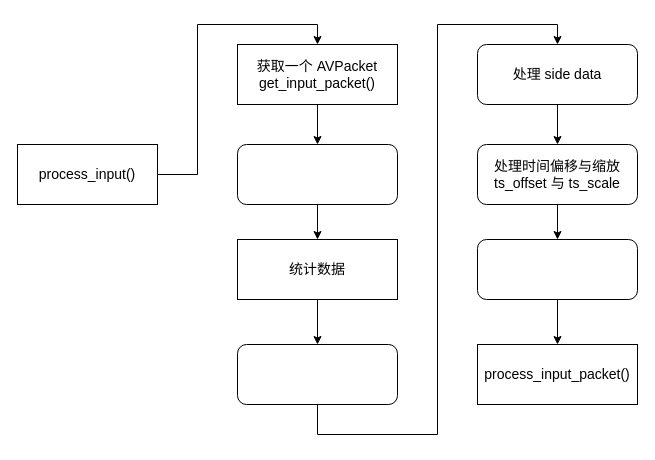
This 655x460 diagram has some shape labels left out. The centre of each missing label's shape, as x and y in pixels:
处理文件读取结束: the point at 317,174
处理时间戳回环问题: the point at 317,374
根据 delta 纠正时间: the point at 557,269
